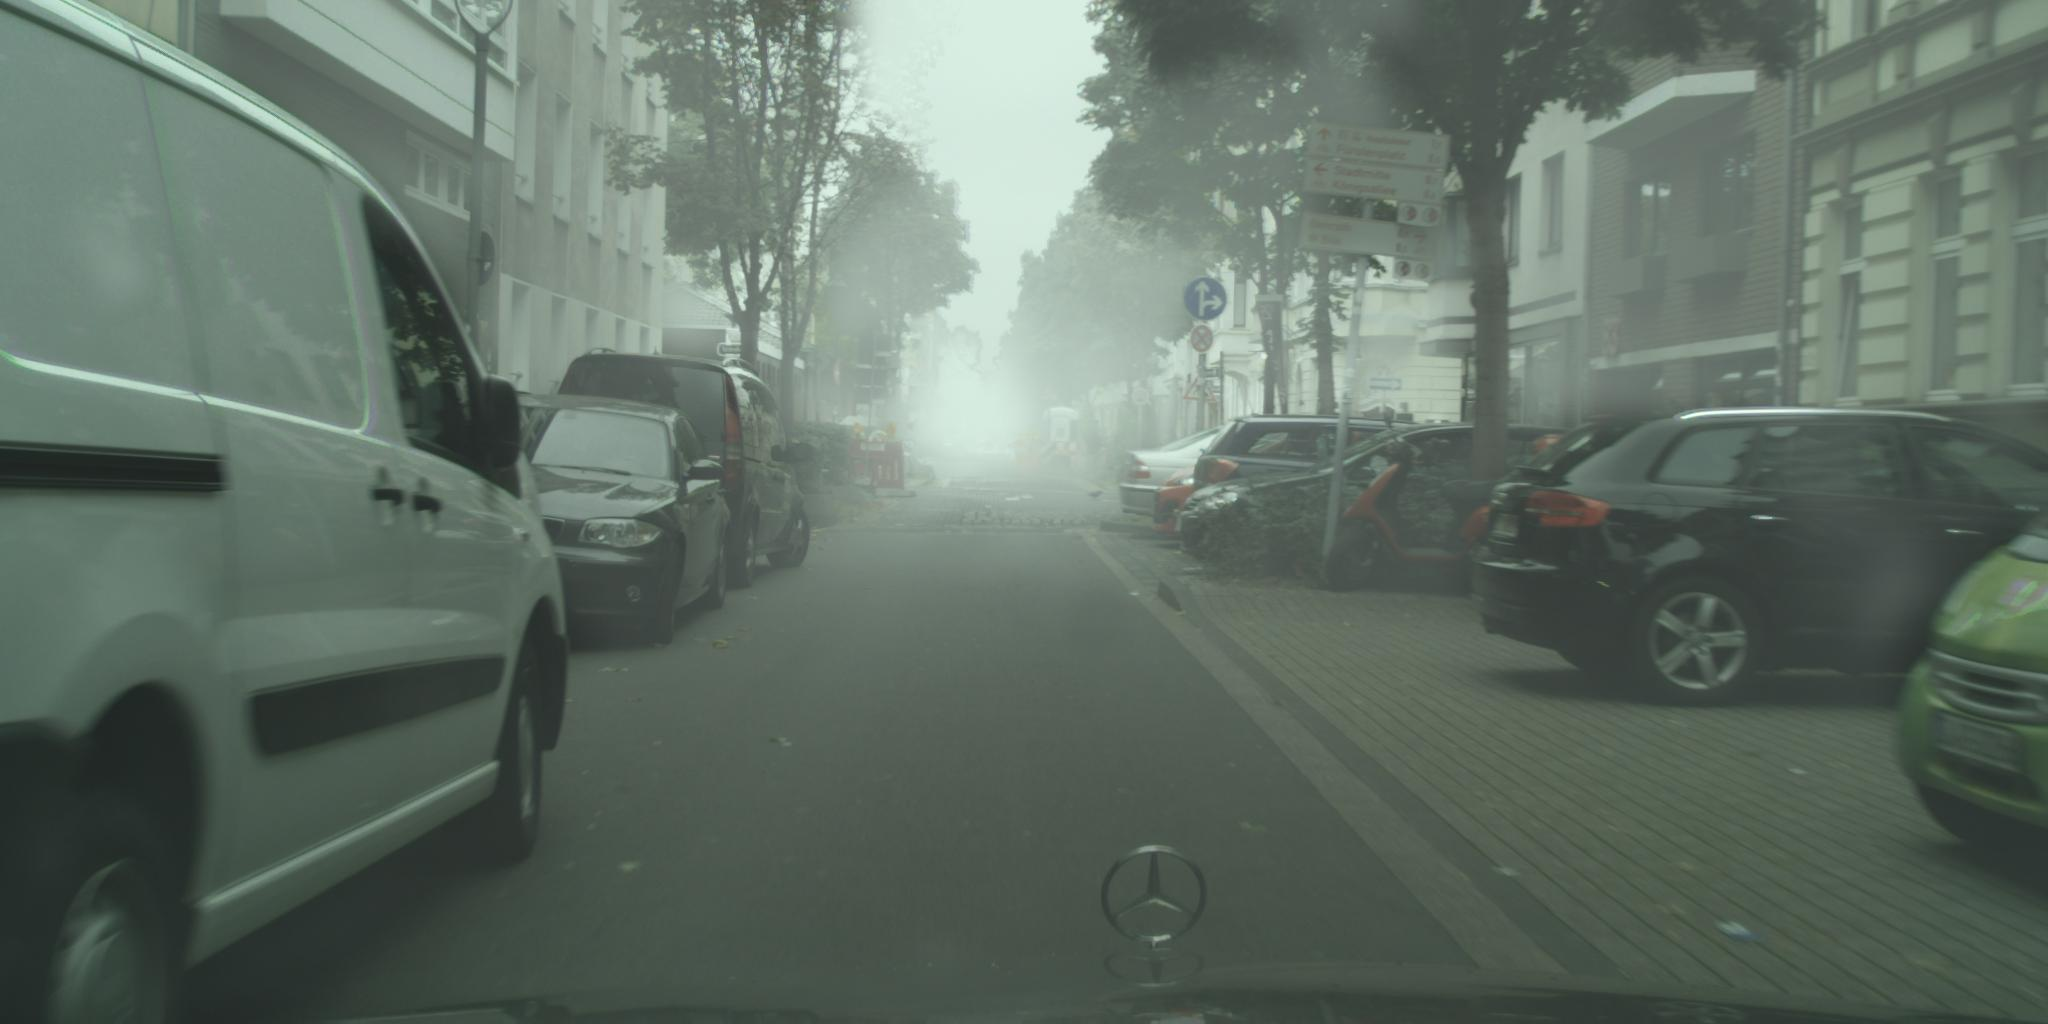bicycle: (835, 455, 878, 502)
car: (1, 1, 569, 1024), (1467, 406, 2048, 708), (552, 347, 815, 590), (487, 394, 737, 645), (1178, 423, 1582, 562), (1898, 509, 2048, 865), (1192, 413, 1433, 522), (1119, 421, 1283, 519), (1153, 464, 1202, 538)
motorcycle: (1323, 438, 1527, 593)
